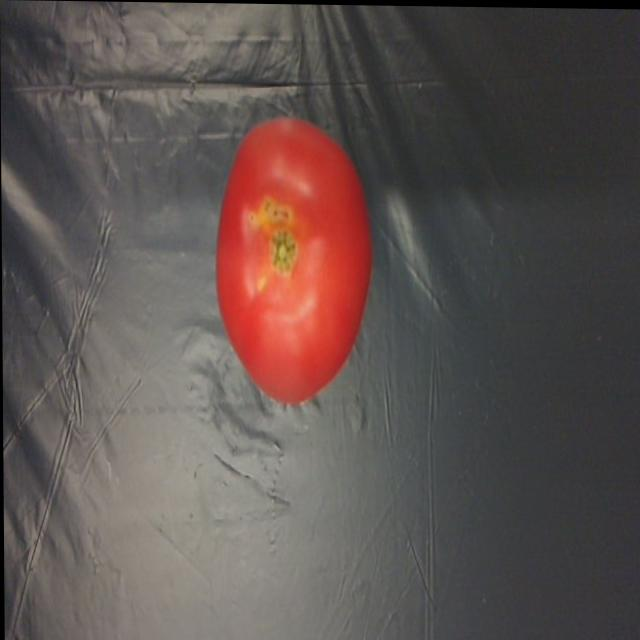kirmizi: (225, 100, 397, 426)
